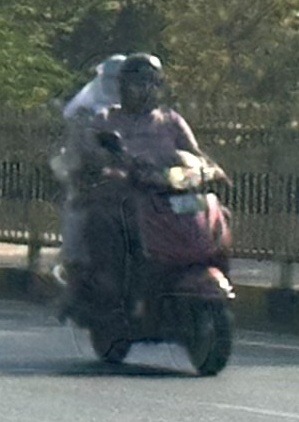BikeWithRider: (38, 44, 246, 382)
Helmet: (111, 48, 170, 116)
NoHelmet: (87, 50, 134, 103)
